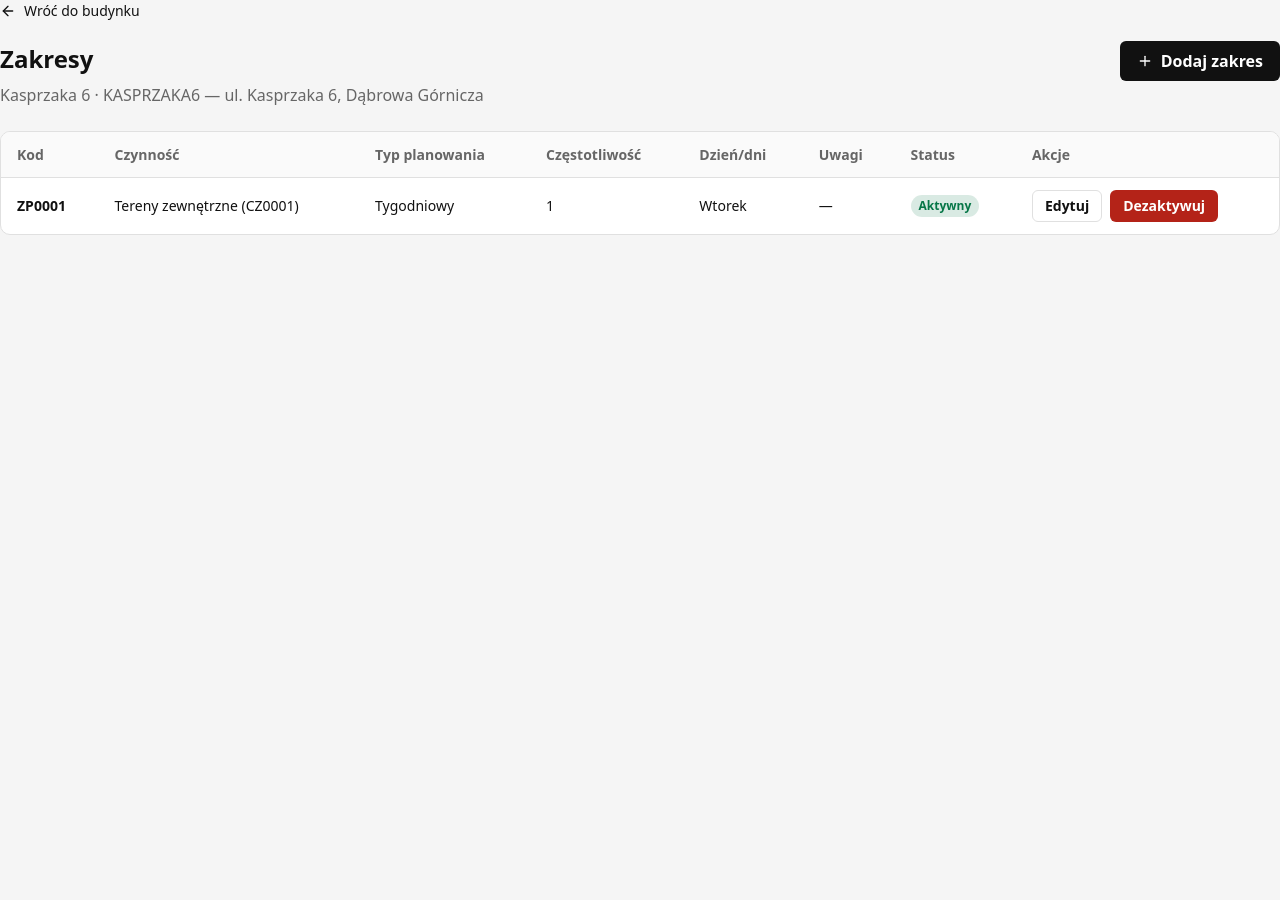
Test case: BuildingScopesPage › creates scope successfully
Check: the text "ZP0001" is shown, box [1,177,98,234]
Click the button "Dodaj zakres" at (1200, 60), box [1120,40,1279,80]
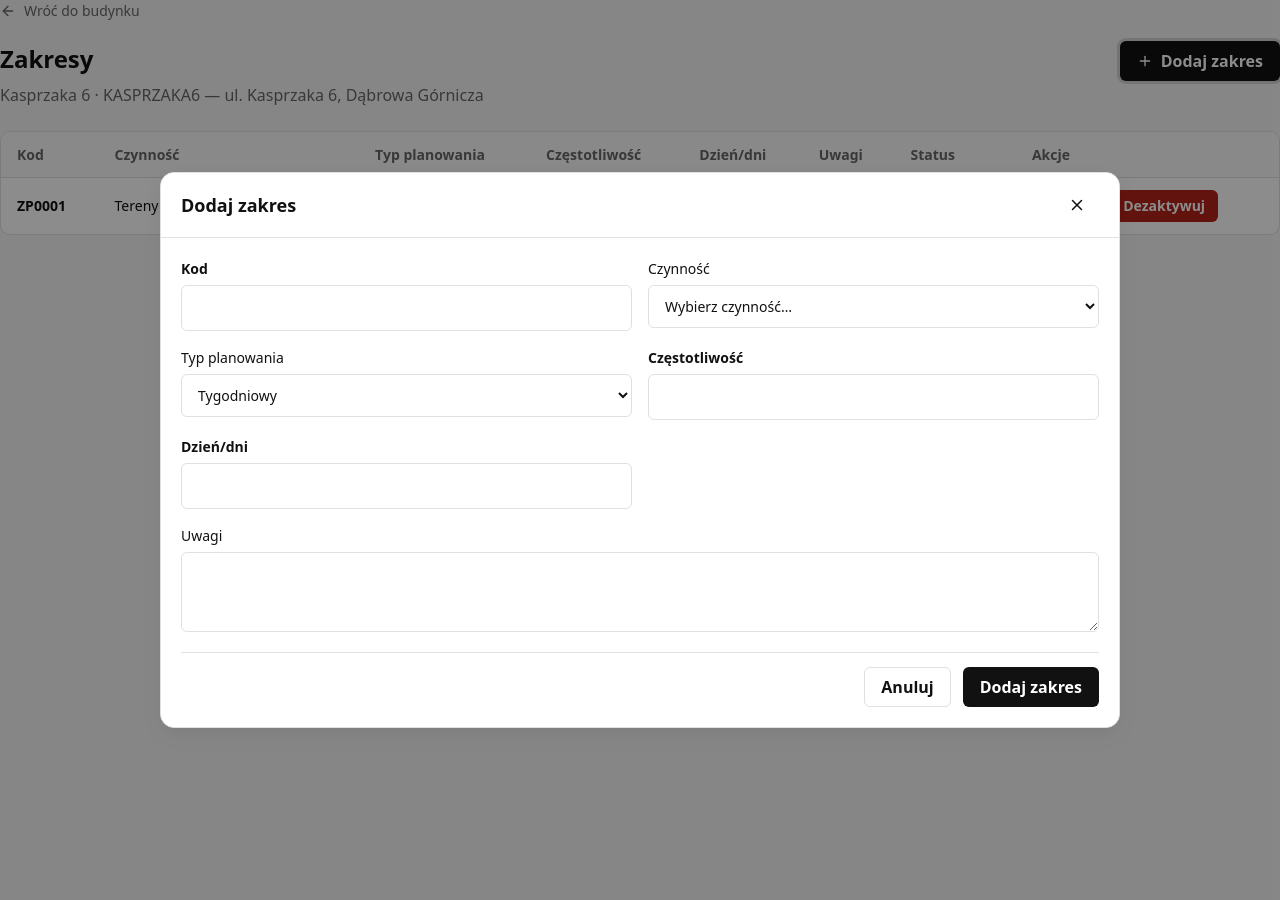
Type "ZP0099" into the field labelled "Kod" at (406, 308), box [181,285,632,331]
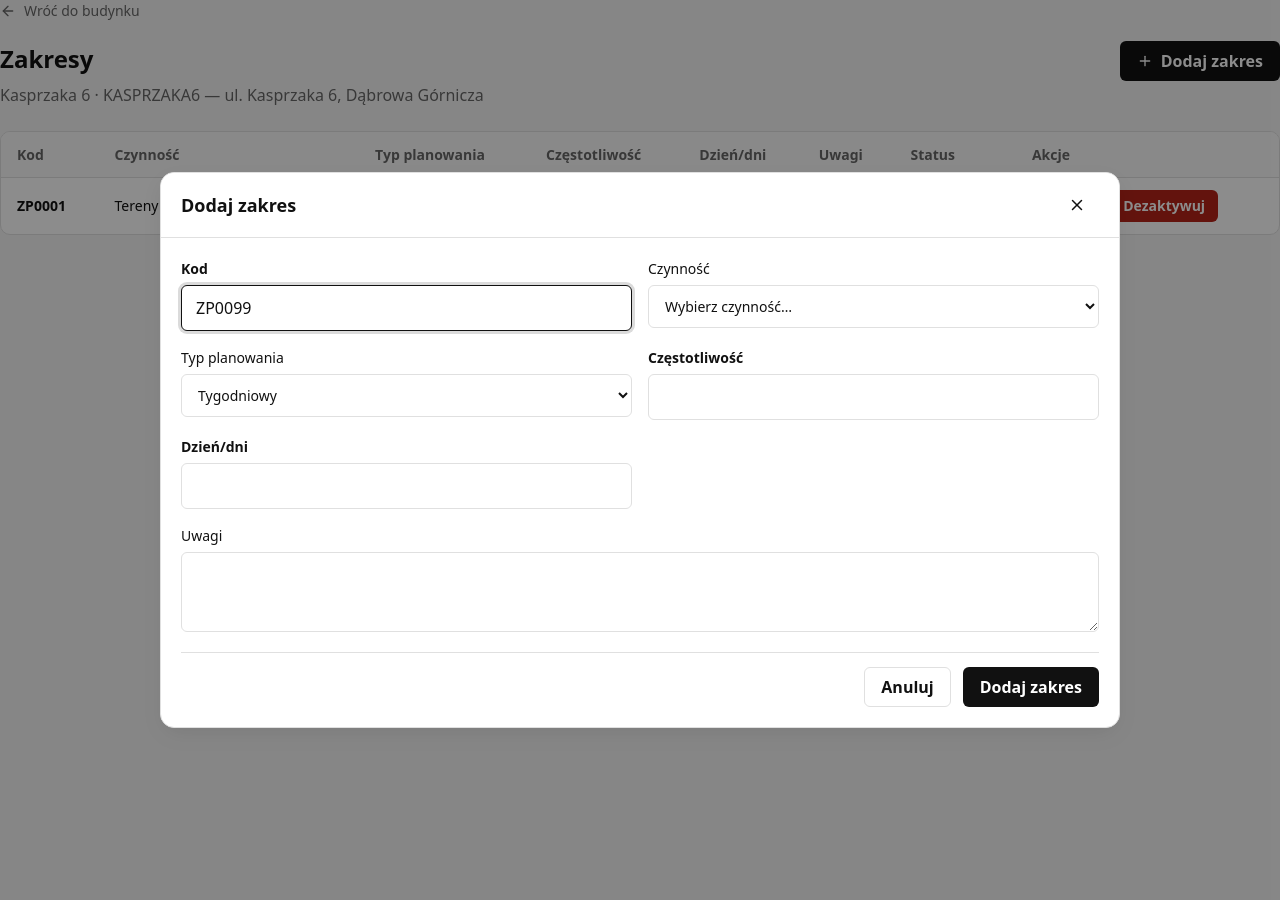
Select "Tereny zewnętrzne (CZ0001)" in the dropdown labelled "Czynność" at (874, 306), box [648,285,1099,328]
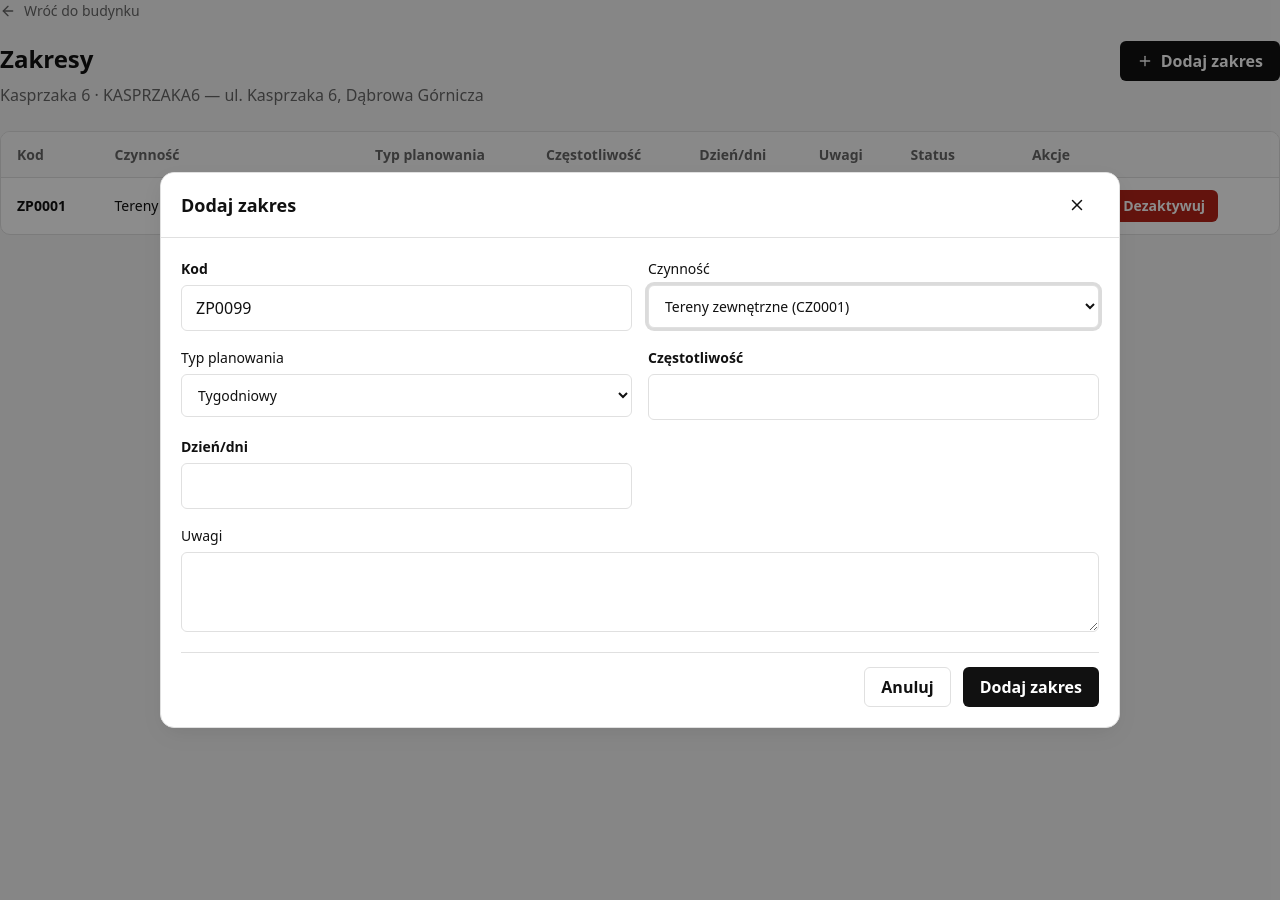
Click the button "Dodaj zakres" at (1031, 687), box [963,667,1099,707]
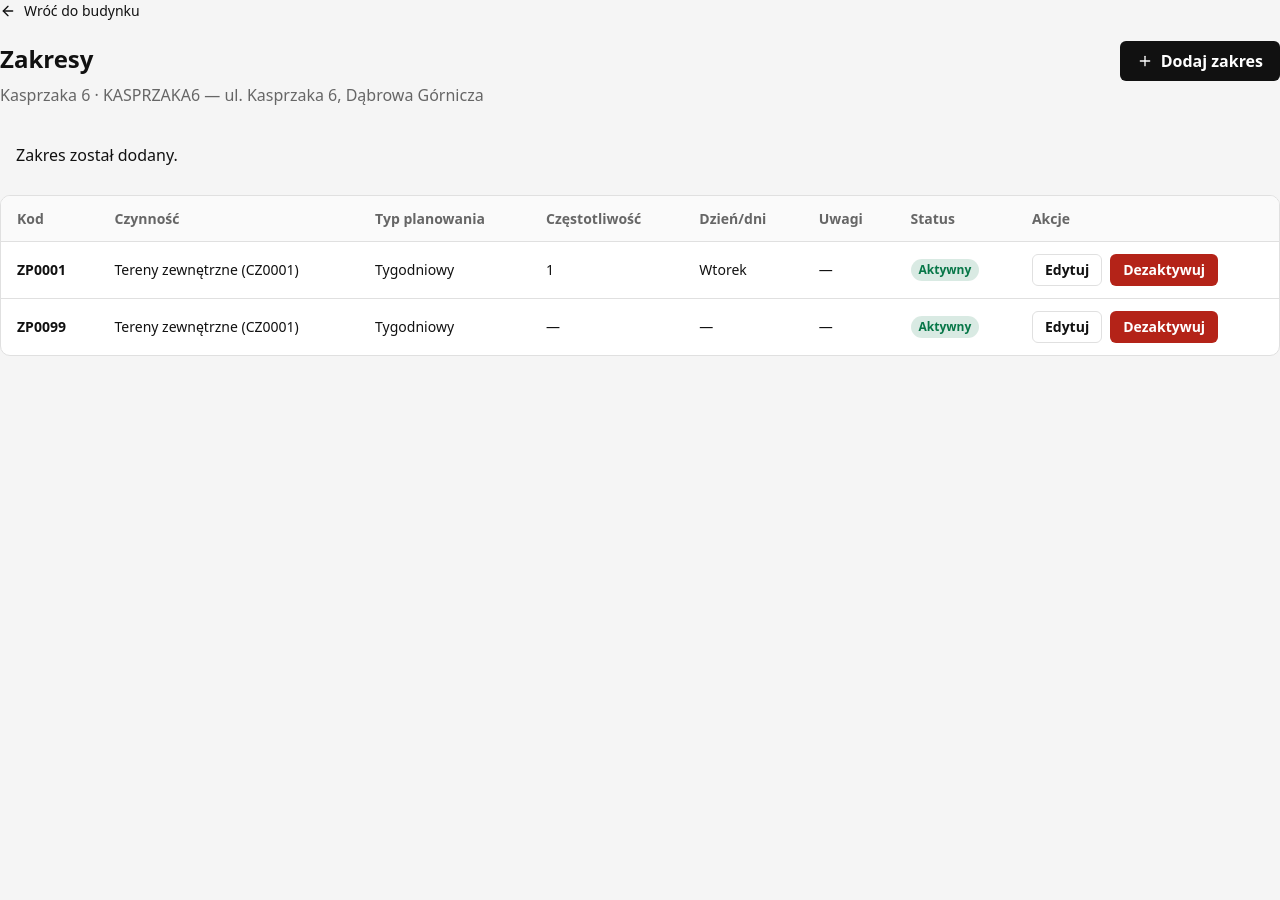
Check: the text "Zakres został dodany." is shown, box [16,144,178,166]
